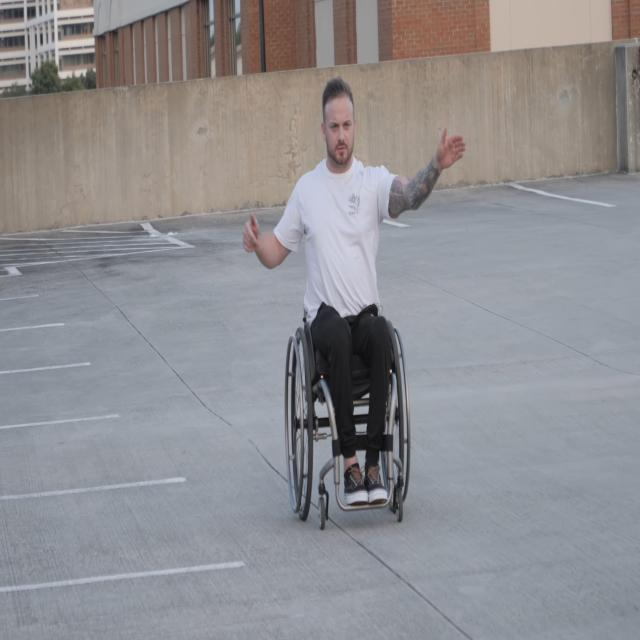wheelchairs: (282, 259, 412, 532)
